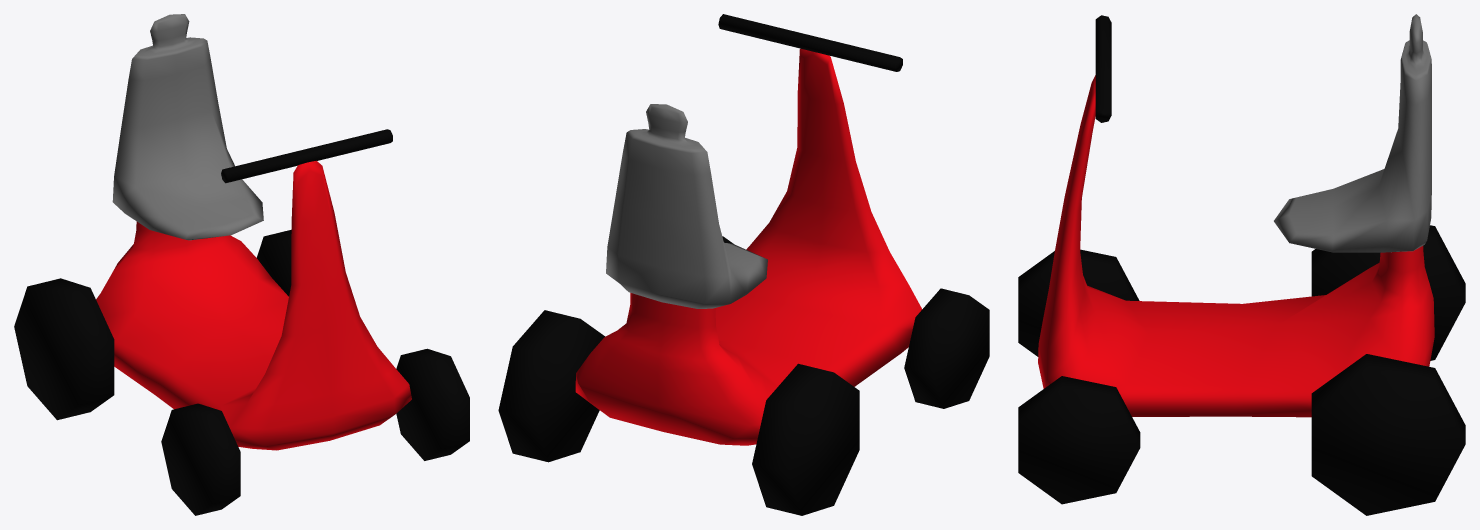
Rendered from MobScooter2.fbx.
3 views of the same model, side by side, from view 1: azimuth 30°, elevation 25°; view 2: azimuth 150°, elevation 25°; view 3: azimuth 270°, elevation 25° (orthographic). The views are drawn at different scales.
Parts seen in each view (by area): view 1: Cube.001, Cylinder.001, Cylinder.002, Cylinder.003, Cylinder; view 2: Cube.001, Cylinder.001, Cylinder, Cylinder.002; view 3: Cube.001, Cylinder, Cylinder.003, Cylinder.001, Cylinder.002.
Part boxes in pixels (bbox=[...]): Cube.001: bbox=[96, 14, 411, 450]; Cylinder.001: bbox=[14, 278, 114, 420]; Cylinder.002: bbox=[161, 403, 240, 515]; Cylinder.003: bbox=[396, 348, 469, 460]; Cylinder: bbox=[256, 229, 291, 296]; Cube.001: bbox=[575, 14, 922, 445]; Cylinder.001: bbox=[752, 363, 859, 515]; Cylinder: bbox=[498, 310, 604, 462]; Cylinder.002: bbox=[904, 288, 989, 408]; Cube.001: bbox=[1038, 14, 1434, 417]; Cylinder: bbox=[1311, 354, 1465, 515]; Cylinder.003: bbox=[1018, 376, 1140, 504]; Cylinder.001: bbox=[1311, 225, 1465, 360]; Cylinder.002: bbox=[1018, 249, 1139, 356].
Size of the model in its own units: 285 by 368 by 355.
